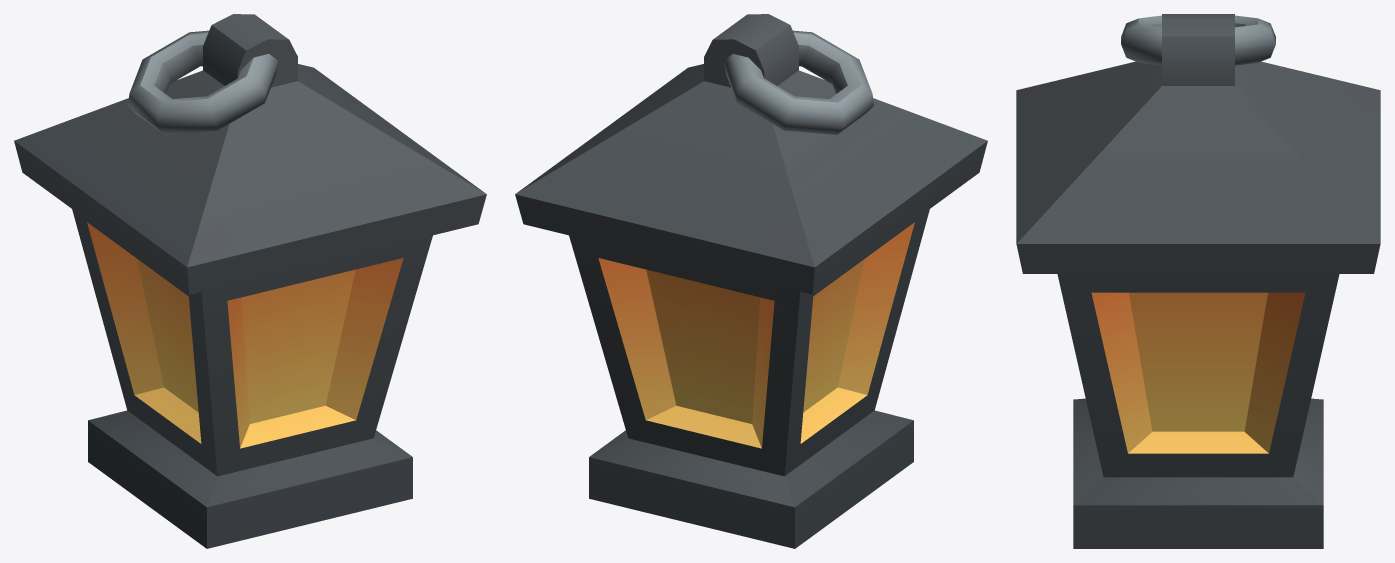
The model's file is lantern.glb.
The picture shows the model from 3 angles, left to right: view 1: azimuth 30°, elevation 25°; view 2: azimuth 150°, elevation 25°; view 3: azimuth 270°, elevation 25°; orthographic projection. The views are drawn at different scales.
Parts seen in each view (by area): view 1: lantern_standing; view 2: lantern_standing; view 3: lantern_standing.
Boxes of the visible parts, <box> form: lantern_standing: <box>14,14,486,548</box>; lantern_standing: <box>515,14,987,548</box>; lantern_standing: <box>1016,14,1380,548</box>.
Size of the model in its own units: 0.64 by 0.9252 by 0.64.
1 material, 1 textured.
